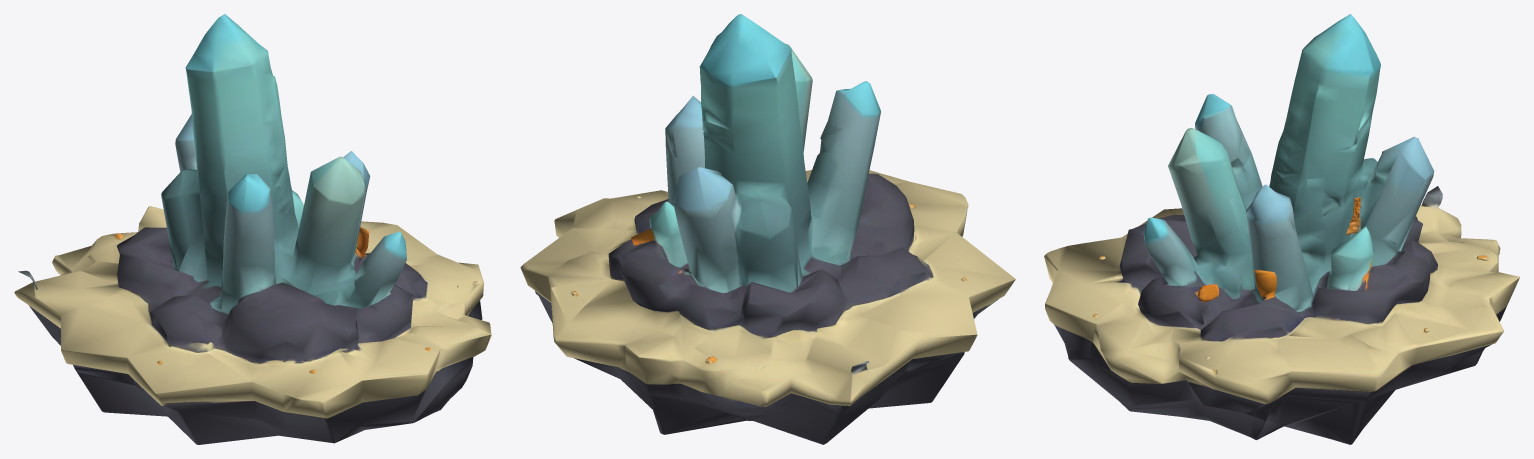
File: crystal-island.glb
3 views of the same model, side by side, from view 1: azimuth 30°, elevation 25°; view 2: azimuth 150°, elevation 25°; view 3: azimuth 270°, elevation 25° (orthographic). The views are drawn at different scales.
Visible parts, largest first — view 1: crystal-island; view 2: crystal-island; view 3: crystal-island.
Boxes of the visible parts, x1,y1,x2,y2 form: crystal-island: (14,14,491,444); crystal-island: (520,14,1015,444); crystal-island: (1044,14,1519,444).
Bounding box in the file's own units: 0.9843 × 0.816 × 1.
Materials: 1 (1 with a texture image).
